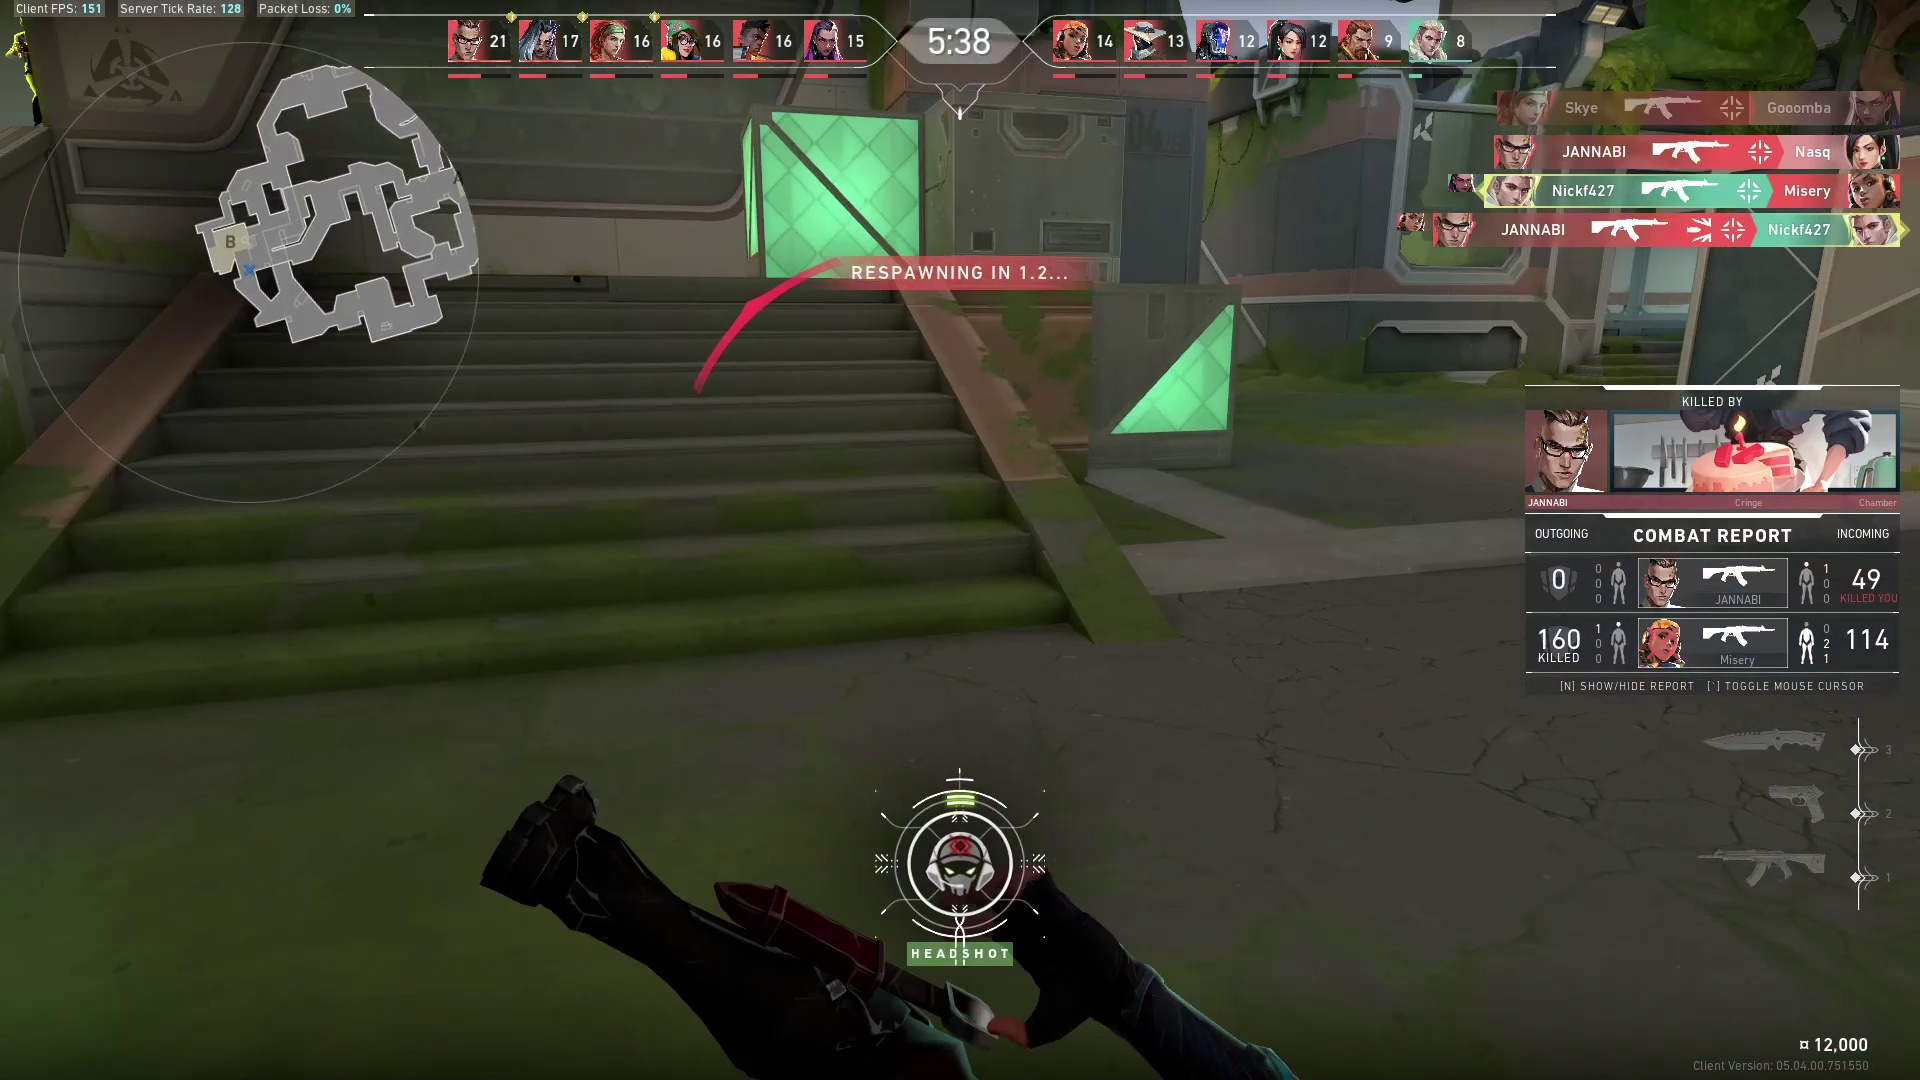enemy_gen: (3, 11, 44, 131)
